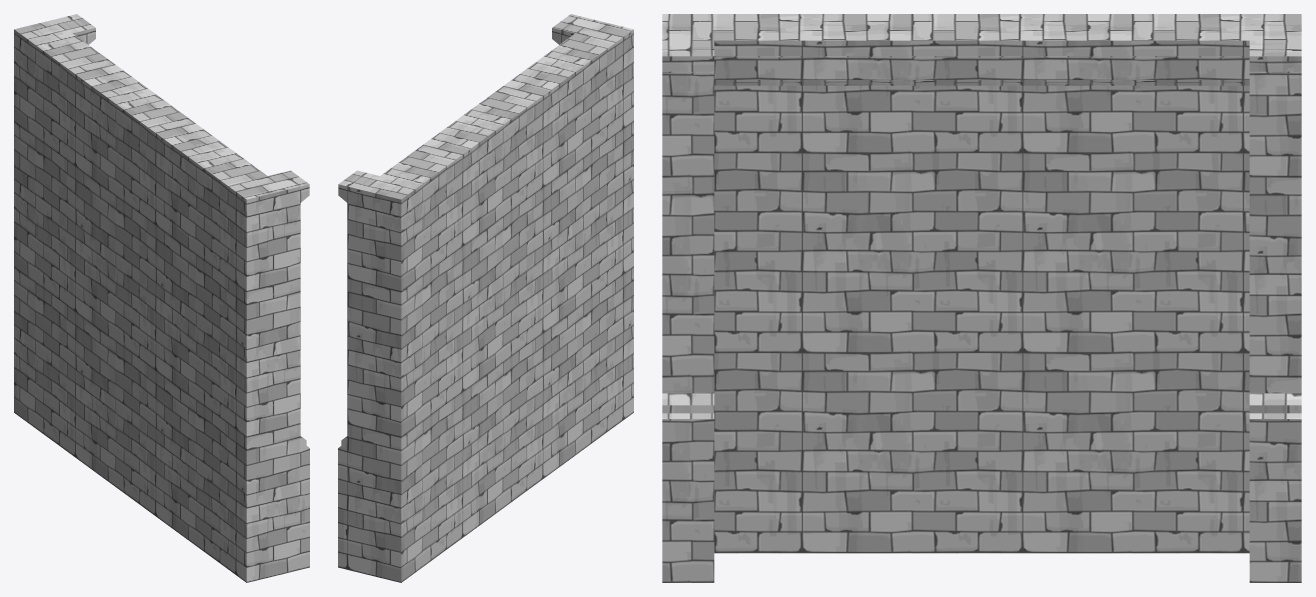
File: StationWall_C_001.fbx
The picture shows the model from 3 angles, left to right: view 1: azimuth 30°, elevation 25°; view 2: azimuth 150°, elevation 25°; view 3: azimuth 270°, elevation 25°; orthographic projection. The views are drawn at different scales.
Visible parts, largest first — view 1: StationWall_C_001; view 2: StationWall_C_001; view 3: StationWall_C_001.
Part boxes in pixels (x1,y1,x2,y2): StationWall_C_001: [14, 14, 309, 582]; StationWall_C_001: [338, 14, 633, 582]; StationWall_C_001: [662, 14, 1301, 582].
Size of the model in its own units: 90.92 by 527 by 580.
Materials: 2 (2 with a texture image).
